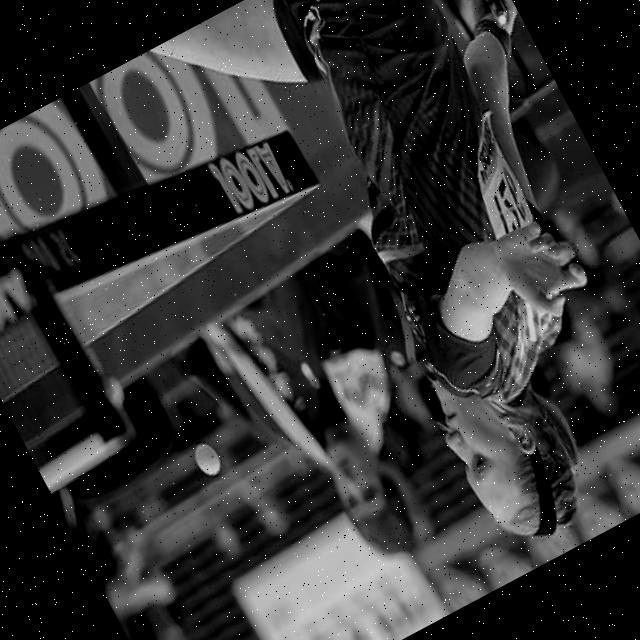ping-pong-ball: (187, 436, 225, 478)
